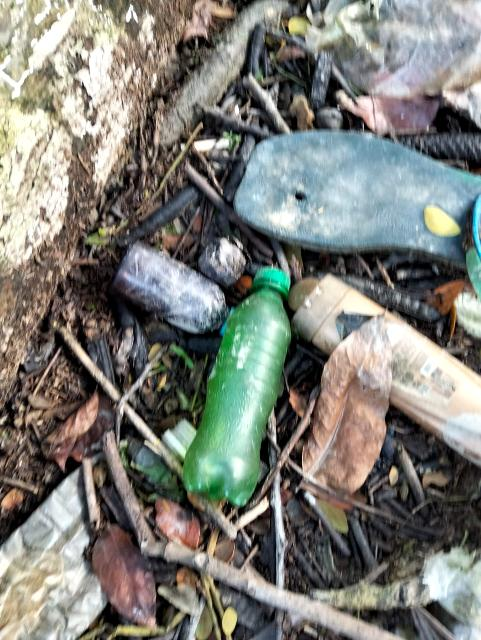bottle: (169, 268, 329, 505)
